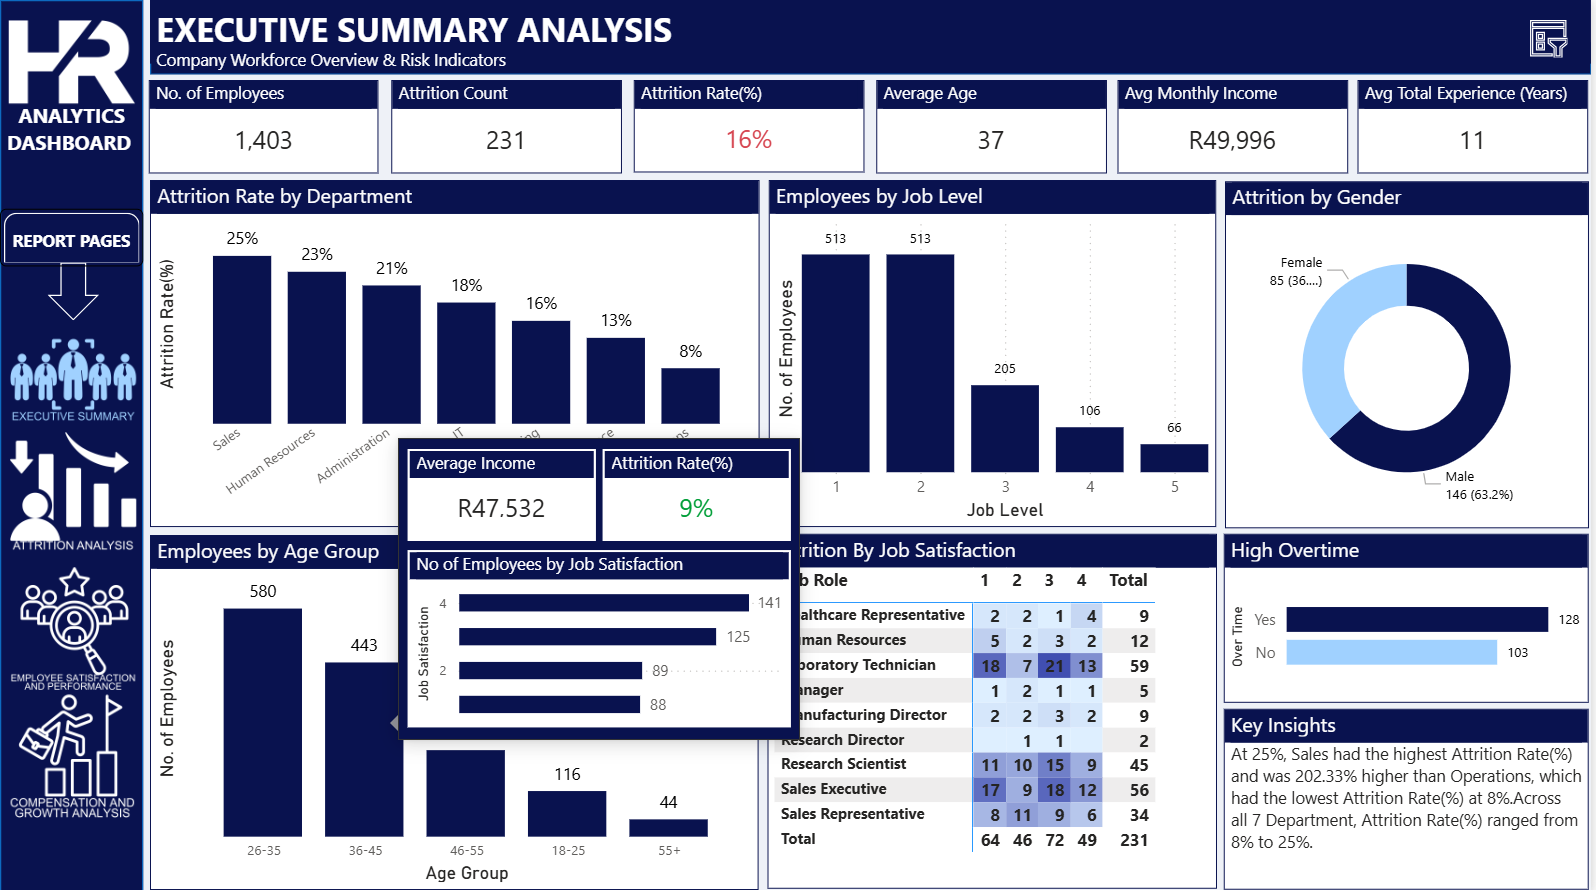

This screenshot's page, from the dashboard's own definition file:
{"tool":"powerbi","page":{"name":"Executive Summary","canvas":[1280,720],"ordinal":0},"visuals":[{"type":"group","id":"g1","title":"Page Navigation","box":[0,0,115.2,720.5],"z":0},{"type":"shape","box":[0,0,115.2,720.5],"z":0,"group":"g1"},{"type":"shape","box":[120.4,34.3,1159.6,26],"z":1000},{"type":"textbox","box":[120.4,0,1159.6,50.9],"z":2000},{"type":"textbox","box":[0,76.8,115.2,58.1],"z":2000,"group":"g1"},{"type":"image","box":[7.3,553.3,102.8,111.1],"z":2125,"group":"g1"},{"type":"shape","box":[38.4,210.7,41.5,46.7],"z":2250,"group":"g1"},{"type":"image","box":[8.3,342.6,101.7,111.1],"z":2312,"group":"g1"},{"type":"image","box":[7.3,0,101.7,111.1],"z":2375,"group":"g1"},{"type":"image","box":[8.3,451.6,101.7,111.1],"z":2406,"group":"g1"},{"type":"image","box":[8.3,249.1,101.7,111.1],"z":2437,"group":"g1"},{"type":"shape","box":[0,168.2,115.2,46.7],"z":2500,"group":"g1"},{"type":"actionButton","title":"Slicers button","box":[1226,11.4,41.5,39.4],"z":3000},{"type":"clusteredColumnChart","title":"Attrition Rate by Department","fields":{"Category":["HR_Analytics-4.Department"],"Y":["Measure.Attrition Rate(%)"]},"box":[120.6,145,490,278.9],"z":4000},{"type":"cardVisual","title":"No. of Employees","fields":{"Data":["Measure.No. of Emp"]},"box":[120,64.5,185,75],"z":5000},{"type":"cardVisual","title":"Attrition Count","fields":{"Data":["Measure.Attrition Count"]},"box":[314.5,64.2,185.6,75],"z":6000},{"type":"cardVisual","title":"Attrition Rate(%)","fields":{"Data":["Measure.Attritrion Rate(%)"]},"box":[509.7,64.4,185.8,74.7],"z":7000},{"type":"cardVisual","title":"Average Age","fields":{"Data":["Measure.Average Age"]},"box":[704.5,64.2,185.6,75],"z":8000},{"type":"cardVisual","title":"Avg Monthly Income","fields":{"Data":["Measure.Avg Monthly Income"]},"box":[898.9,64.2,185.6,75],"z":9000},{"type":"cardVisual","title":"Avg Total Experience (Years)","fields":{"Data":["Measure.Avg Total Experience"]},"box":[1092.2,64.2,185.6,75],"z":10000},{"type":"donutChart","fields":{"Category":["HR_Analytics.Gender"],"Y":["Measure.Attrition Count"]},"box":[985.2,145.4,292.8,279.4],"z":11000},{"type":"clusteredColumnChart","title":"Employees by Age Group","fields":{"Y":["Measure.tot emp"],"Category":["HR_Analytics.AgeGroup"]},"box":[120.2,430.1,490,285.5],"z":12000},{"type":"columnChart","title":"Employees by Job Level","fields":{"Y":["Measure.tot emp"],"Category":["HR_Analytics.JobLevel"]},"box":[618.4,145,360,278.9],"z":13000},{"type":"clusteredBarChart","title":"High Overtime","fields":{"Category":["HR_Analytics.OverTime"],"Y":["Measure.Attrition Count"]},"box":[984.1,429.8,293.8,136],"z":14000},{"type":"textbox","title":"Key Insights","box":[984.1,569.9,293.8,145.3],"z":15000},{"type":"pivotTable","title":"Attrition By Job Satisfaction","fields":{"Rows":["HR_Analytics.JobRole"],"Columns":["HR_Analytics.JobSatisfaction"],"Values":["Measure.Attrition Count"]},"box":[617.7,429.8,361.3,285.5],"z":17000},{"type":"textbox","box":[120.4,34.3,300,31.1],"z":18000}]}

Visuals, with their boxes in screenshot pixels (x1, y1, x2, y2), scaled from the page's 1280x720 canvas onto the 1596x890 screenshot:
"Page Navigation" group: <region>0, 0, 144, 889</region>
shape: <region>0, 0, 144, 889</region>
shape: <region>150, 42, 1595, 75</region>
textbox: <region>150, 0, 1595, 63</region>
textbox: <region>0, 95, 144, 167</region>
image: <region>9, 684, 137, 821</region>
shape: <region>48, 260, 100, 318</region>
image: <region>10, 423, 137, 561</region>
image: <region>9, 0, 136, 137</region>
image: <region>10, 558, 137, 696</region>
image: <region>10, 308, 137, 445</region>
shape: <region>0, 208, 144, 266</region>
"Slicers button" actionButton: <region>1529, 14, 1580, 63</region>
"Attrition Rate by Department" clusteredColumnChart: <region>150, 179, 761, 524</region>
"No. of Employees" cardVisual: <region>150, 80, 380, 172</region>
"Attrition Count" cardVisual: <region>392, 79, 624, 172</region>
"Attrition Rate(%)" cardVisual: <region>636, 80, 867, 172</region>
"Average Age" cardVisual: <region>878, 79, 1110, 172</region>
"Avg Monthly Income" cardVisual: <region>1121, 79, 1352, 172</region>
"Avg Total Experience (Years)" cardVisual: <region>1362, 79, 1593, 172</region>
donutChart - HR_Analytics.Gender x Measure.Attrition Count: <region>1228, 180, 1594, 525</region>
"Employees by Age Group" clusteredColumnChart: <region>150, 532, 761, 885</region>
"Employees by Job Level" columnChart: <region>771, 179, 1220, 524</region>
"High Overtime" clusteredBarChart: <region>1227, 531, 1593, 699</region>
"Key Insights" textbox: <region>1227, 704, 1593, 884</region>
"Attrition By Job Satisfaction" pivotTable: <region>770, 531, 1221, 884</region>
textbox: <region>150, 42, 524, 81</region>
